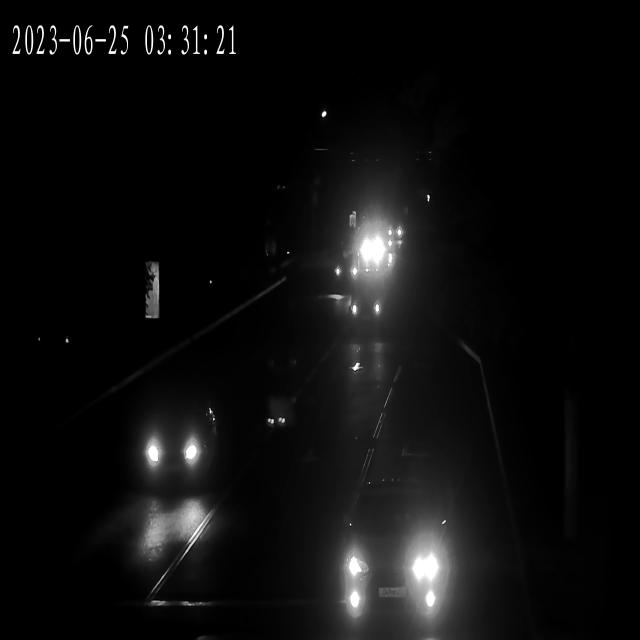Car: (327, 485, 449, 610), (132, 388, 220, 486), (347, 285, 386, 326), (327, 253, 362, 290), (358, 236, 388, 262), (356, 236, 384, 258), (385, 227, 405, 243)
